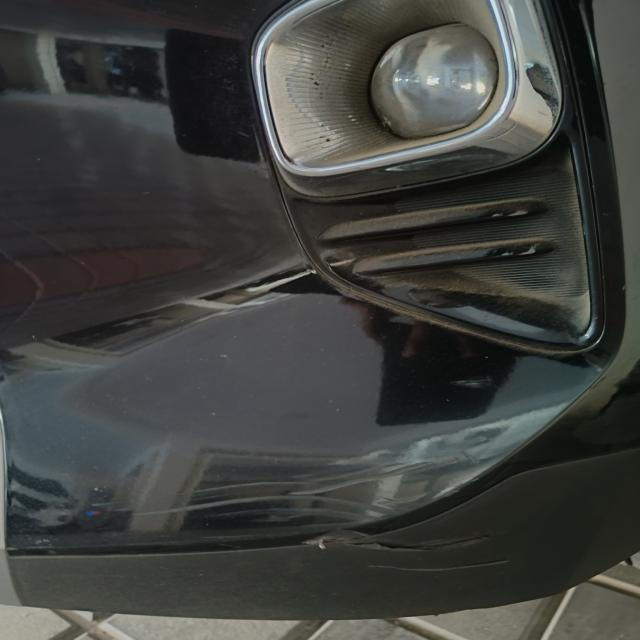scratch: (113, 454, 439, 538), (303, 530, 529, 573)
